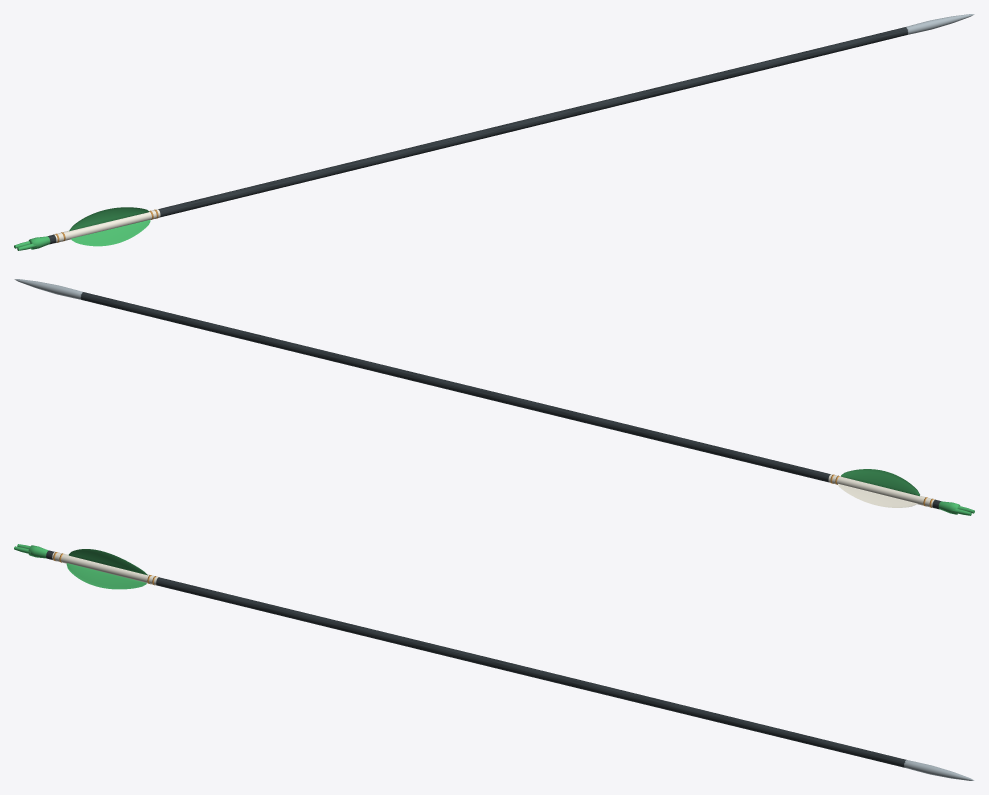
Rendered from arrow.glb.
The picture shows the model from 3 angles, top to bottom: view 1: azimuth 30°, elevation 25°; view 2: azimuth 150°, elevation 25°; view 3: azimuth 330°, elevation 25°; orthographic projection.
Parts seen in each view (by area): view 1: shaft, vanes, wrap, point; view 2: shaft, vanes, wrap, point; view 3: shaft, vanes, wrap, point.
Boxes of the visible parts, left/top/right/bottom form: shaft: left=48, top=27, right=908, bottom=244; vanes: left=69, top=207, right=150, bottom=246; wrap: left=53, top=209, right=160, bottom=243; point: left=906, top=14, right=974, bottom=34; shaft: left=80, top=292, right=940, bottom=509; vanes: left=837, top=469, right=919, bottom=507; wrap: left=828, top=474, right=935, bottom=508; point: left=14, top=279, right=82, bottom=299; shaft: left=46, top=550, right=906, bottom=767; vanes: left=66, top=549, right=147, bottom=589; wrap: left=52, top=551, right=158, bottom=585; point: left=904, top=760, right=974, bottom=780.
Bounding box in the file's own units: 0.784 × 0.0245 × 0.0255.
Materials: 5 (1 with a texture image).
